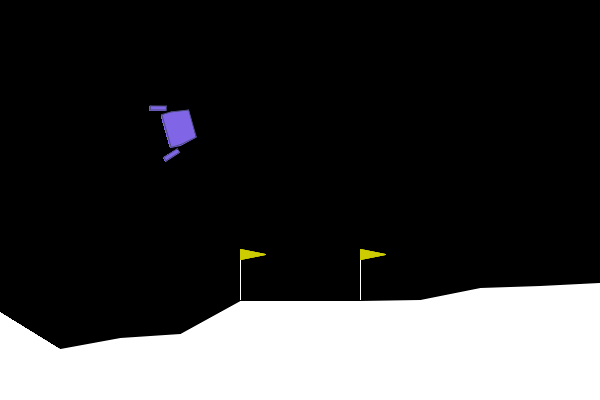lander: (147, 95, 202, 163)
